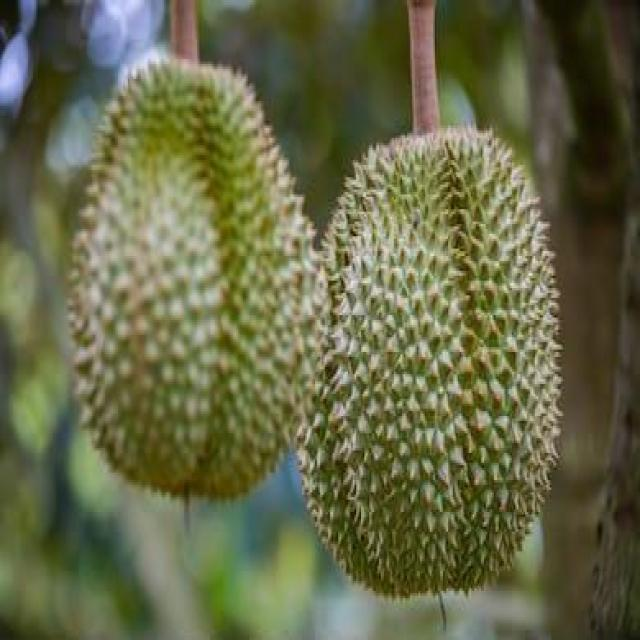immature: (294, 117, 564, 600), (71, 56, 325, 507)
